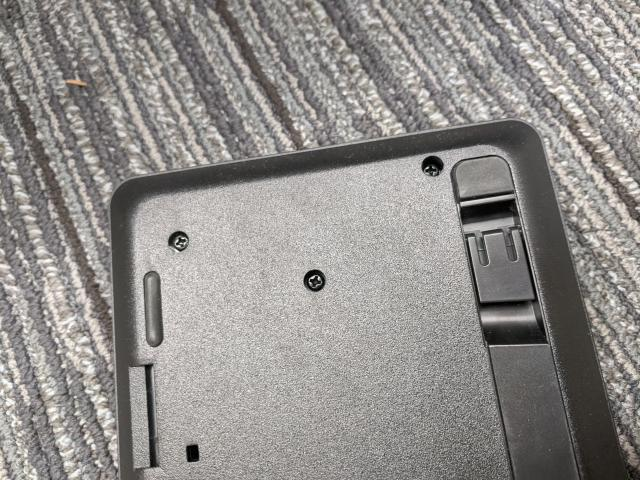CRS: (420, 156, 443, 179), (304, 269, 324, 290), (172, 230, 189, 251)
